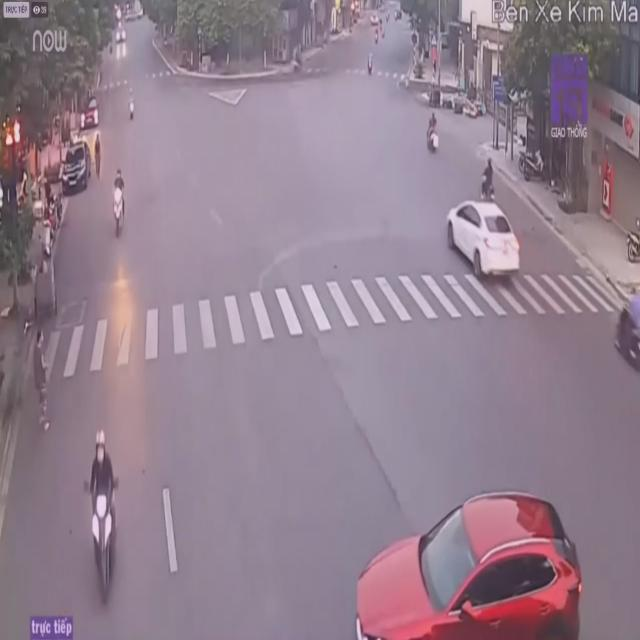car: (338, 484, 584, 638), (446, 197, 525, 285)
motorbike: (81, 429, 122, 612), (108, 169, 127, 240), (481, 159, 495, 197), (427, 111, 438, 155)
